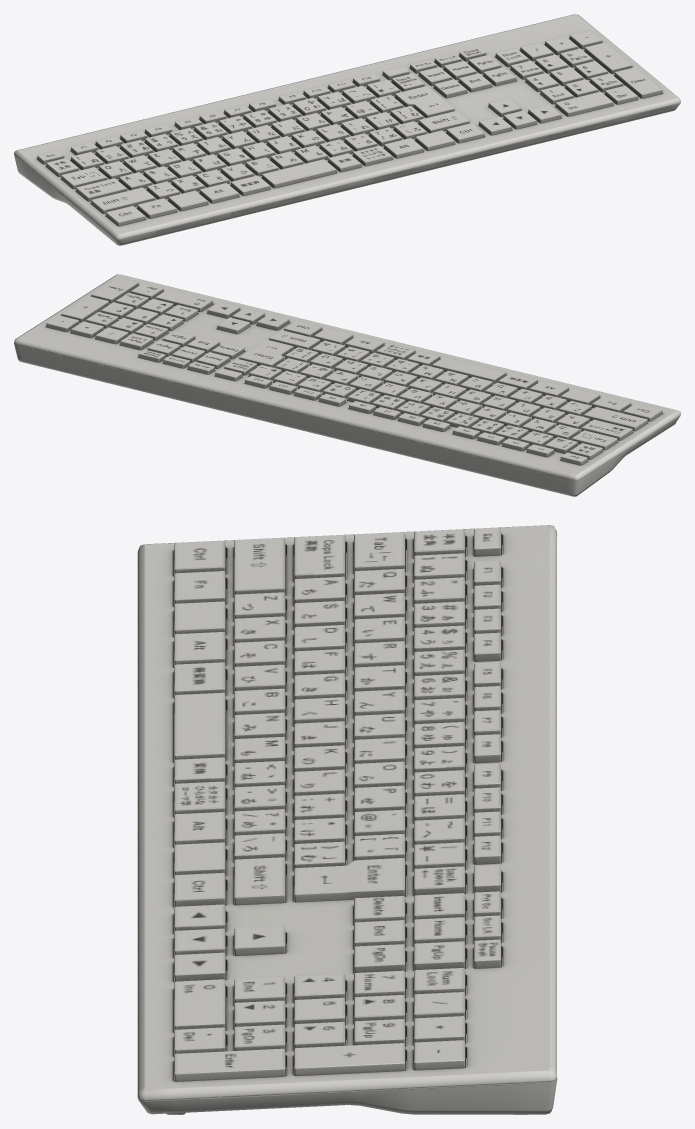
Rendered from Keyboard.fbx.
The picture shows the model from 3 angles, top to bottom: view 1: azimuth 30°, elevation 25°; view 2: azimuth 150°, elevation 25°; view 3: azimuth 270°, elevation 25°; orthographic projection. The views are drawn at different scales.
Parts seen in each view (by area): view 1: Keyboard; view 2: Keyboard; view 3: Keyboard.
Boxes of the visible parts, left/top/right/bottom form: Keyboard: left=14, top=14, right=680, bottom=245; Keyboard: left=14, top=274, right=680, bottom=496; Keyboard: left=137, top=525, right=557, bottom=1114.
Bounding box in the file's own units: 43.5 × 2.11 × 13.99.
1 material, 1 textured.
